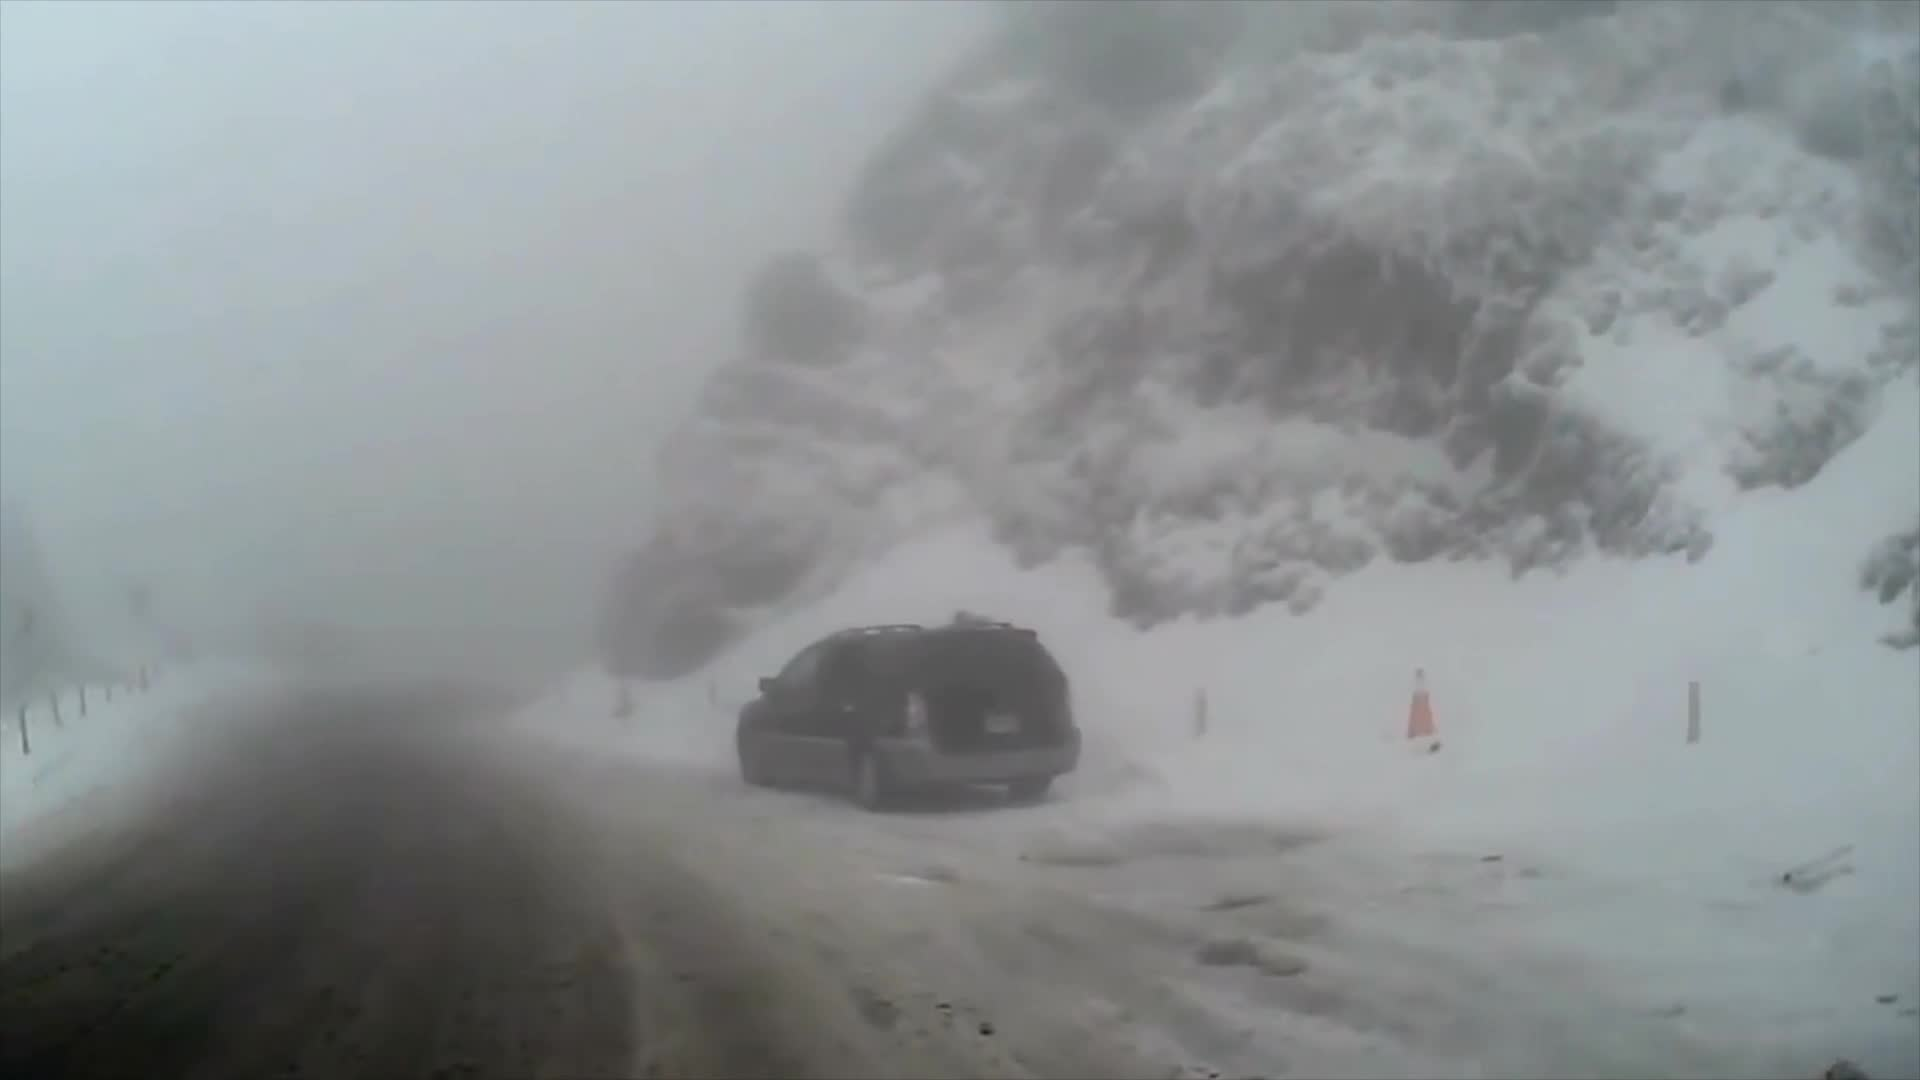vehicle: (733, 626, 1080, 815)
